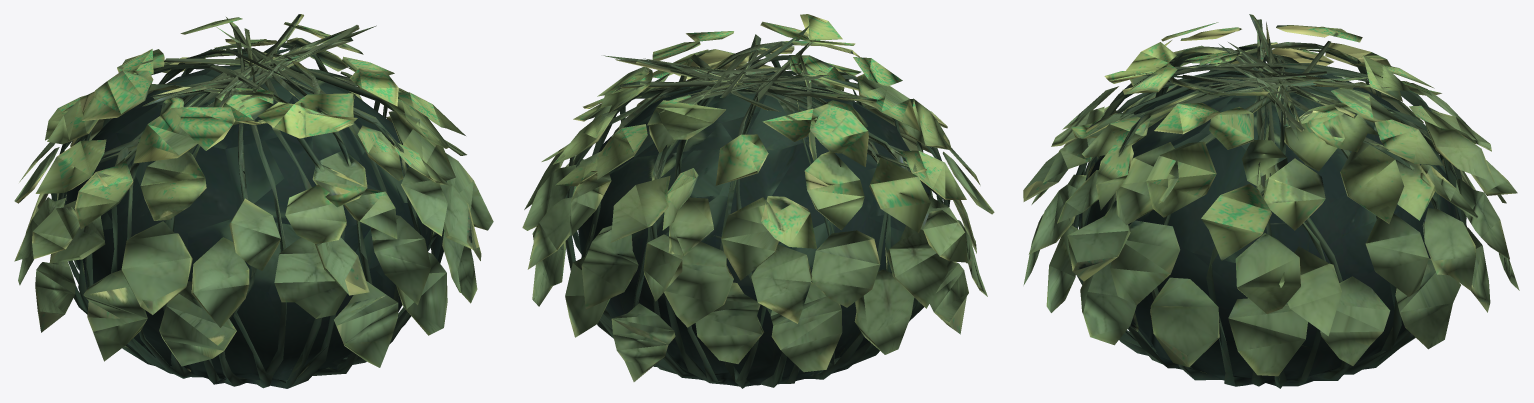
File: bush.glb
3 renders of one model, left to right at view 1: azimuth 30°, elevation 25°; view 2: azimuth 150°, elevation 25°; view 3: azimuth 270°, elevation 25°, orthographic. The views are drawn at different scales.
Parts seen in each view (by area): view 1: BUSH; view 2: BUSH; view 3: BUSH.
Boxes of the visible parts, bbox=[...] form: BUSH: bbox=[14, 14, 493, 388]; BUSH: bbox=[522, 14, 994, 388]; BUSH: bbox=[1023, 14, 1519, 388].
Size of the model in its own units: 1.97 by 1.29 by 1.94.
1 material, 1 textured.
